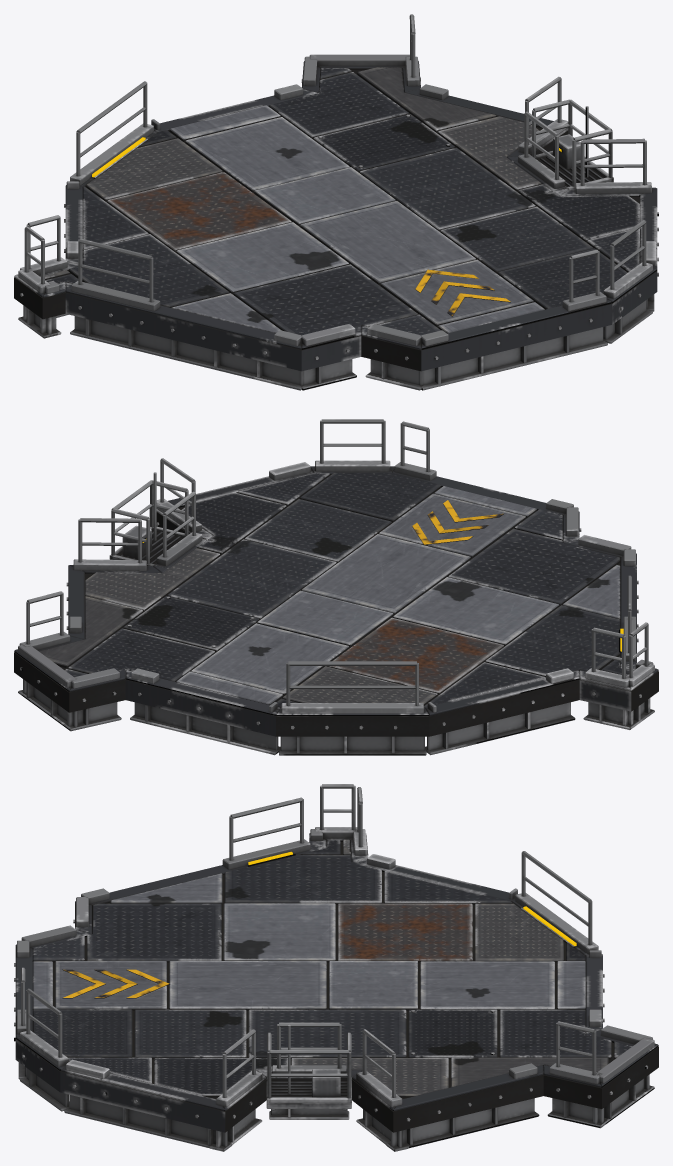
Rendered from nodexeus-set-deck-e.glb.
3 views of the same model, one above another, from view 1: azimuth 30°, elevation 25°; view 2: azimuth 150°, elevation 25°; view 3: azimuth 270°, elevation 25° (orthographic). The views are drawn at different scales.
Visible parts, largest first — view 1: set-deck-e; view 2: set-deck-e; view 3: set-deck-e.
Part boxes in pixels (x1,y1,x2,y2): set-deck-e: [14, 14, 658, 390]; set-deck-e: [14, 419, 658, 755]; set-deck-e: [14, 784, 658, 1151].
Size of the model in its own units: 11.52 by 2.13 by 11.3.
1 material, 1 textured.
